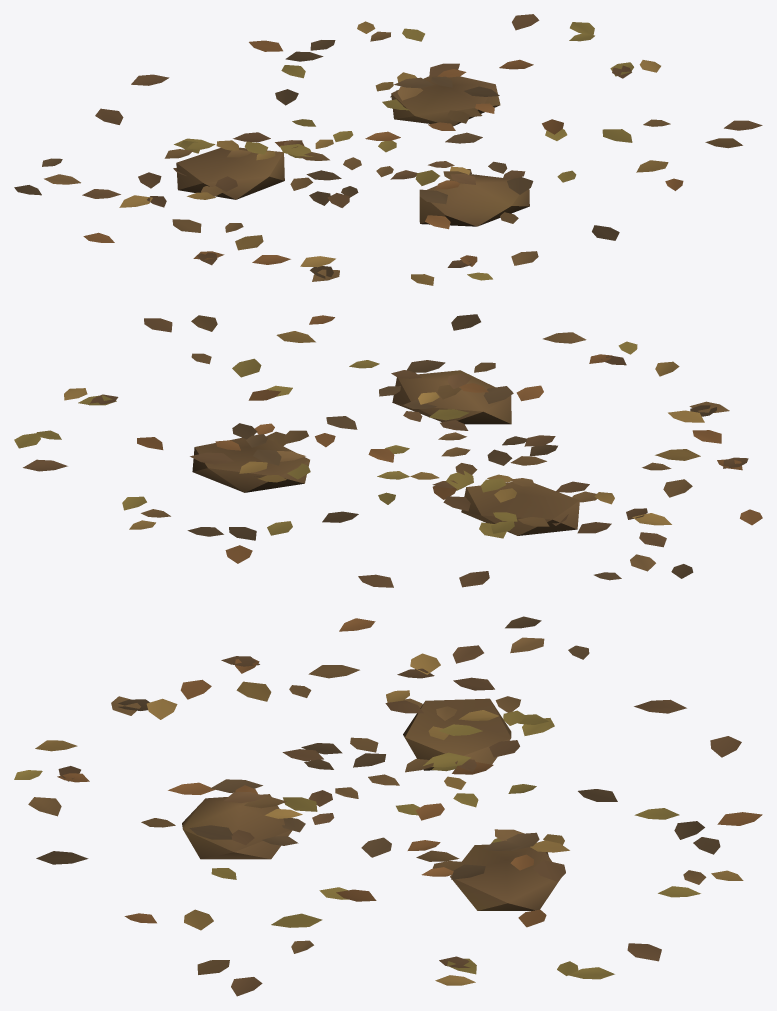
Rendered from ph_env_leaves_3.glb.
3 renders of one model, top to bottom at view 1: azimuth 30°, elevation 25°; view 2: azimuth 150°, elevation 25°; view 3: azimuth 270°, elevation 25°, orthographic. The views are drawn at different scales.
Parts seen in each view (by area): view 1: ph_env_leaves_3; view 2: ph_env_leaves_3; view 3: ph_env_leaves_3.
Part boxes in pixels (x1,y1,x2,y2): ph_env_leaves_3: [14, 14, 762, 285]; ph_env_leaves_3: [14, 314, 762, 587]; ph_env_leaves_3: [14, 616, 762, 996].
Size of the model in its own units: 1.39 by 0.082 by 1.16.
